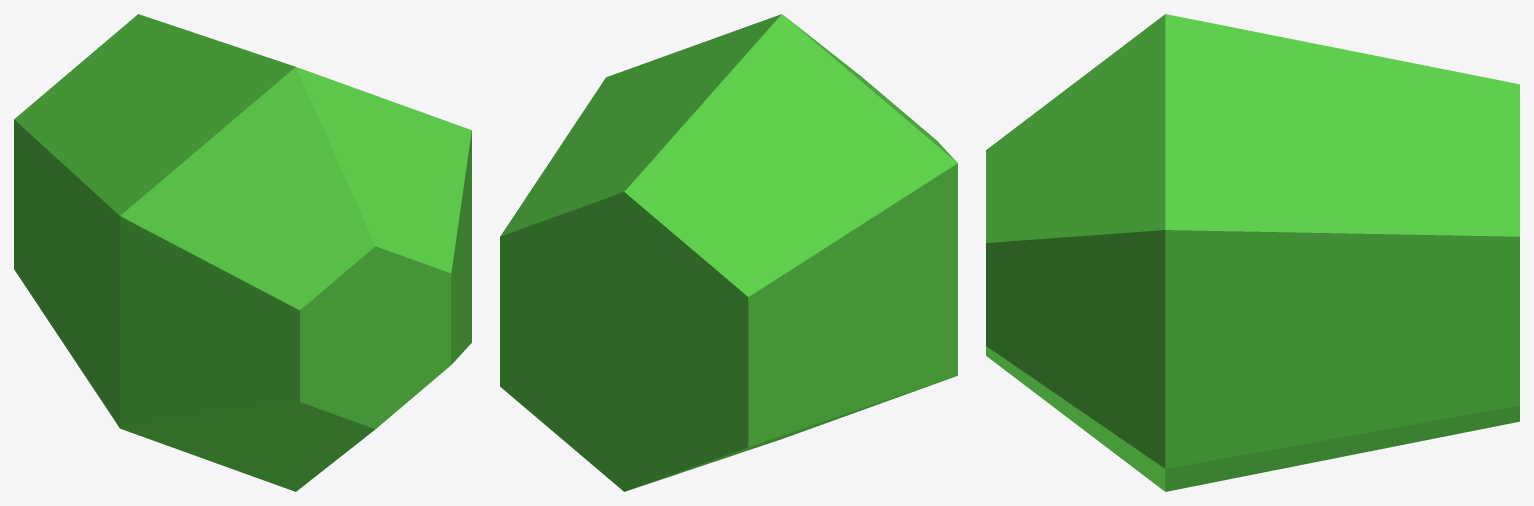
Rendered from GreenCabbageInner.obj.
3 views of the same model, side by side, from view 1: azimuth 30°, elevation 25°; view 2: azimuth 150°, elevation 25°; view 3: azimuth 270°, elevation 25° (orthographic). The views are drawn at different scales.
Parts seen in each view (by area): view 1: cabbage.001; view 2: cabbage.001; view 3: cabbage.001.
Boxes of the visible parts, x1,y1,x2,y2 form: cabbage.001: (14,14,471,491); cabbage.001: (500,14,957,491); cabbage.001: (986,14,1519,491).
Size of the model in its own units: 0.1546 by 0.1785 by 0.1806.
